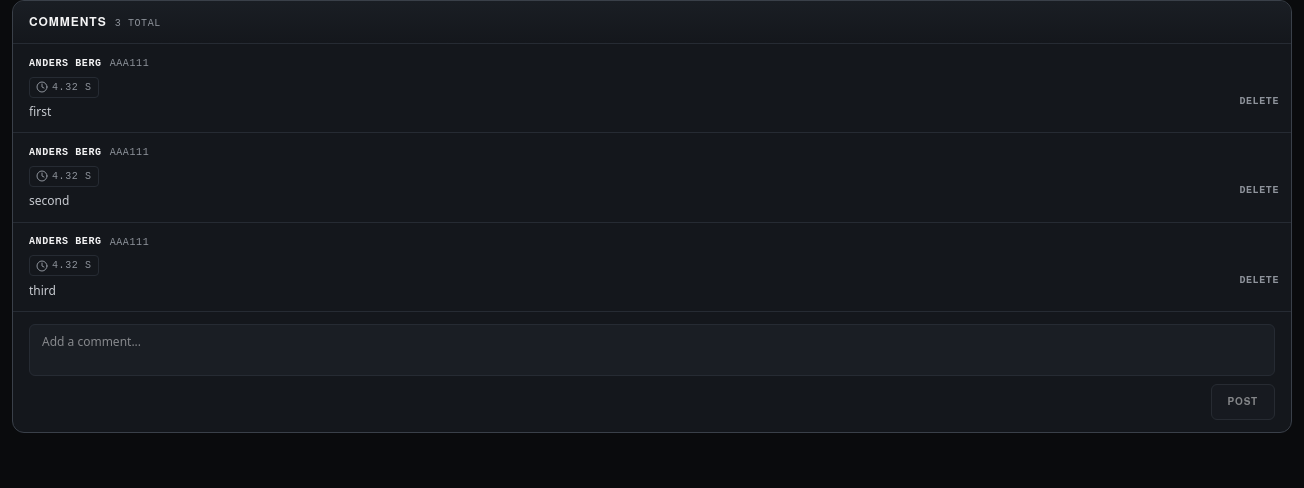
CommentPanel author codes (#867) › opens detail for the clicked comment's row only, even when one author posted three comments
Click the button with aria-label "author detail".
click(129, 64)  # box [110, 56, 149, 71]
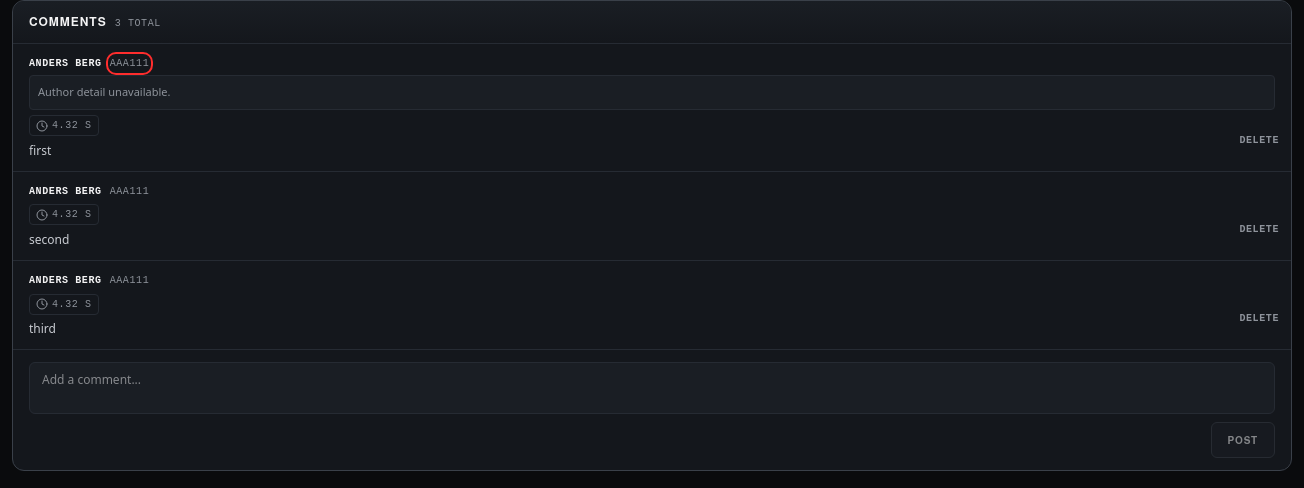
Result: the text "Author detail unavailable." is shown once at [29, 75, 1275, 110]
